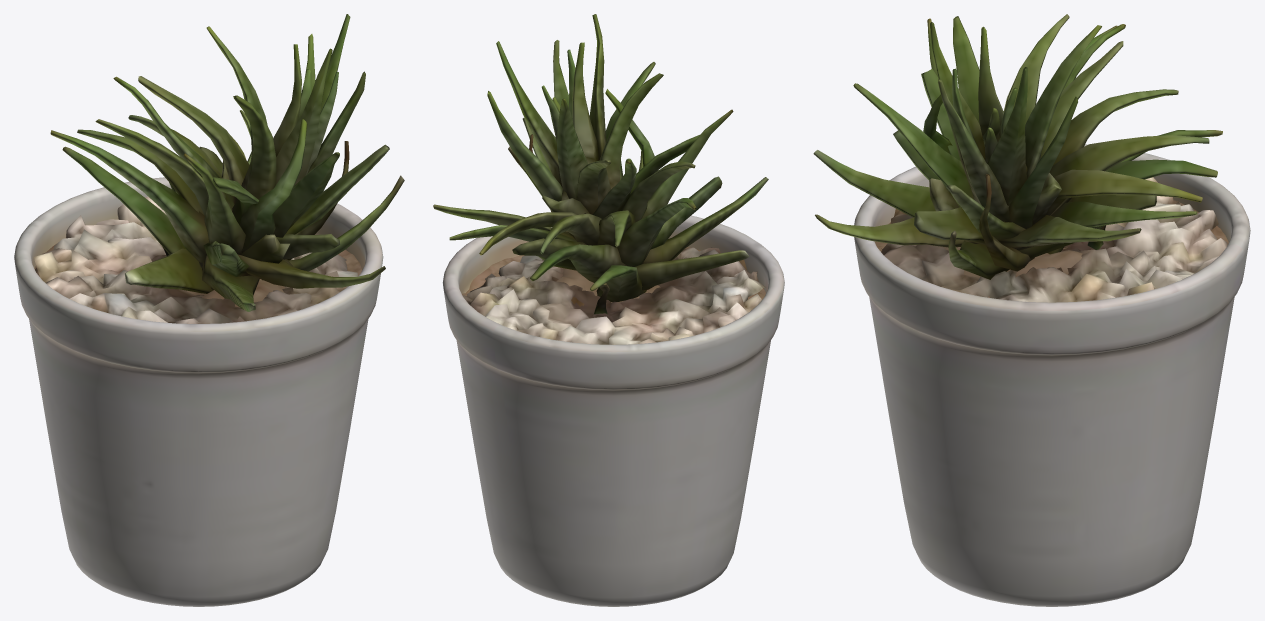
The model's file is succulent.glb.
3 views of the same model, side by side, from view 1: azimuth 30°, elevation 25°; view 2: azimuth 150°, elevation 25°; view 3: azimuth 270°, elevation 25° (orthographic). The views are drawn at different scales.
Visible parts, largest first — view 1: potted_plant_04_ground; view 2: potted_plant_04_ground; view 3: potted_plant_04_ground.
Part boxes in pixels (bbox=[...]): potted_plant_04_ground: bbox=[14, 14, 404, 606]; potted_plant_04_ground: bbox=[433, 14, 784, 606]; potted_plant_04_ground: bbox=[813, 14, 1250, 606].
Bounding box in the file's own units: 0.1679 × 0.2675 × 0.1847.
1 material, 1 textured.
